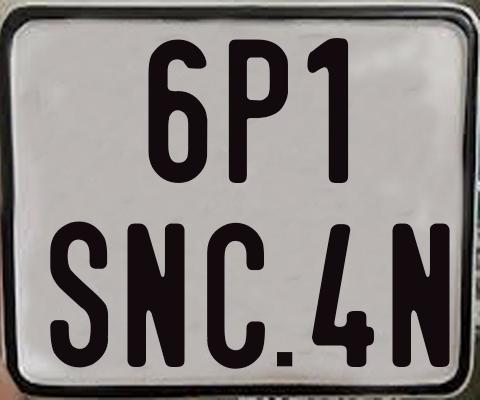1: (307, 37, 353, 183)
4: (310, 222, 372, 371)
6: (147, 39, 207, 184)
C: (206, 223, 268, 375)
N: (390, 223, 454, 369), (127, 220, 187, 364)
P: (226, 39, 285, 186)
S: (49, 219, 107, 367)
